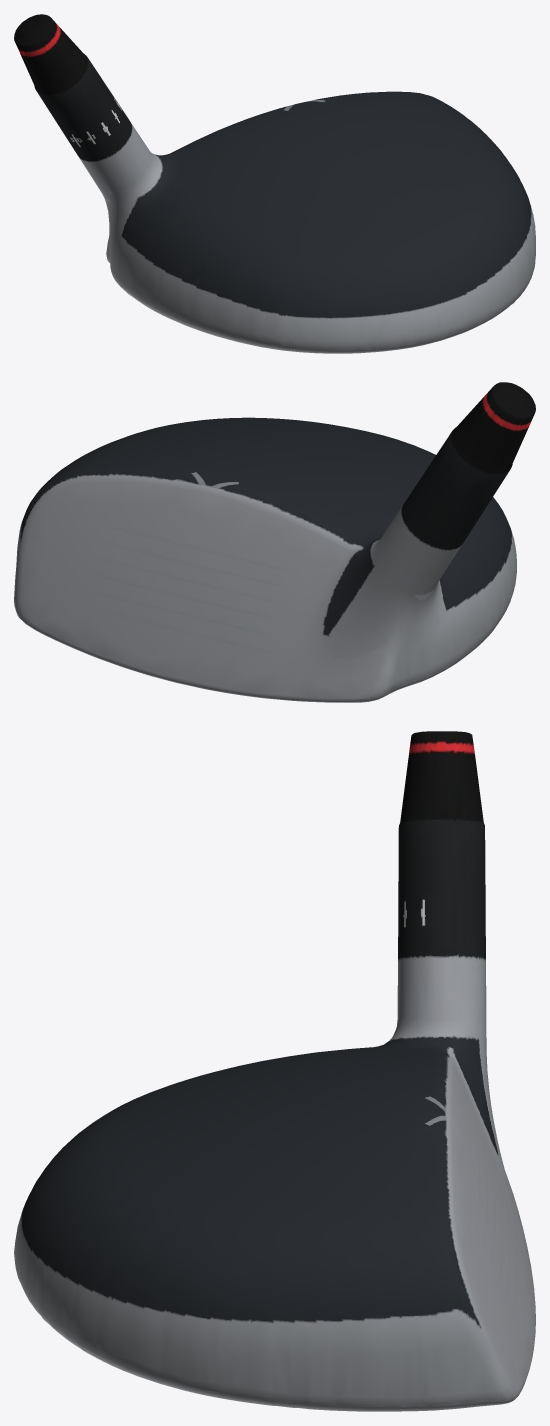
3 renders of one model, top to bottom at view 1: azimuth 30°, elevation 25°; view 2: azimuth 150°, elevation 25°; view 3: azimuth 270°, elevation 25°, orthographic. The views are drawn at different scales.
Visible parts, largest first — view 1: head; view 2: head; view 3: head.
Boxes of the visible parts, x1,y1,x2,y2 form: head: (14,14,535,353); head: (14,382,535,702); head: (14,731,535,1411).
Size of the model in its own units: 0.1158 by 0.0736 by 0.0824.
Materials: 1 (1 with a texture image).
